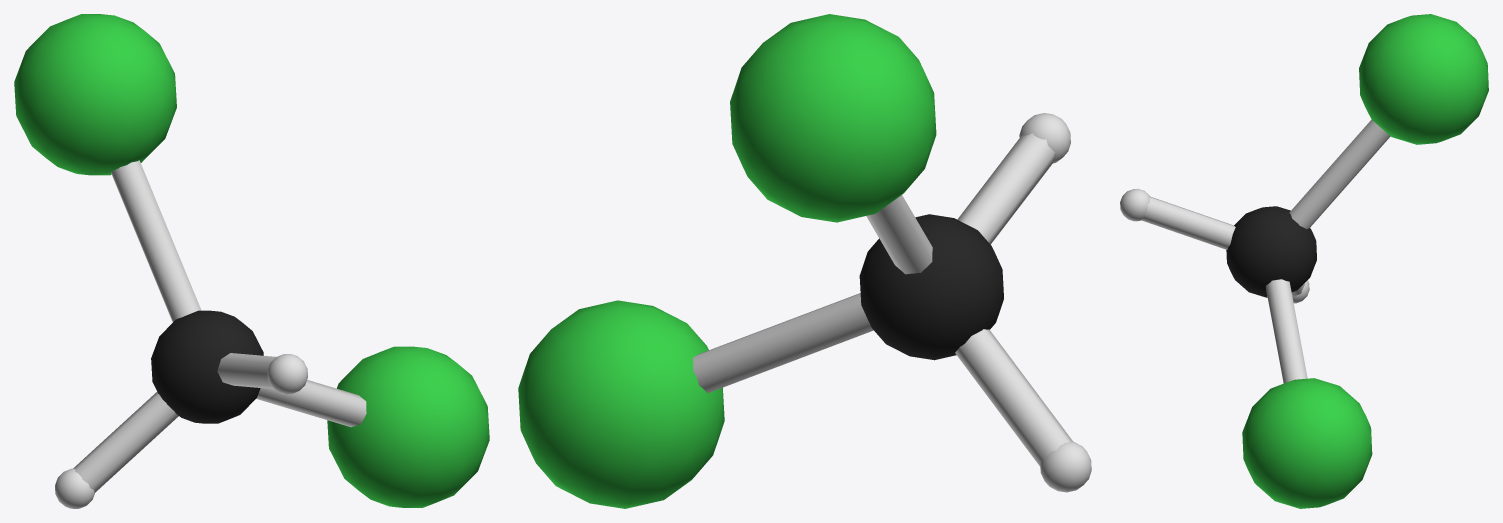
File: Dichlorometane.fbx
3 views of the same model, side by side, from view 1: azimuth 30°, elevation 25°; view 2: azimuth 150°, elevation 25°; view 3: azimuth 270°, elevation 25° (orthographic). The views are drawn at different scales.
Visible parts, largest first — view 1: Group1, Group3, Group2, Group6, Group9, Group7, Group8, Group4, Group5; view 2: Group1, Group3, Group2, Group7, Group9, Group8, Group6, Group5, Group4; view 3: Group3, Group1, Group2, Group6, Group7, Group8, Group4.
Part boxes in pixels (x1=…): Group1: x1=14, y1=14, x2=176, y2=175; Group3: x1=327, y1=346, x2=489, y2=507; Group2: x1=151, y1=310, x2=263, y2=423; Group6: x1=111, y1=160, x2=201, y2=322; Group9: x1=73, y1=392, x2=178, y2=492; Group7: x1=256, y1=380, x2=366, y2=427; Group8: x1=217, y1=353, x2=275, y2=389; Group4: x1=267, y1=354, x2=307, y2=394; Group5: x1=55, y1=468, x2=94, y2=508; Group1: x1=730, y1=14, x2=936, y2=222; Group3: x1=518, y1=300, x2=724, y2=508; Group2: x1=859, y1=214, x2=1003, y2=360; Group7: x1=693, y1=293, x2=873, y2=393; Group9: x1=955, y1=329, x2=1072, y2=466; Group8: x1=957, y1=133, x2=1054, y2=244; Group6: x1=866, y1=195, x2=932, y2=274; Group5: x1=1040, y1=441, x2=1091, y2=492; Group4: x1=1019, y1=113, x2=1070, y2=163; Group3: x1=1242, y1=378, x2=1372, y2=508; Group1: x1=1359, y1=14, x2=1488, y2=144; Group2: x1=1226, y1=206, x2=1316, y2=297; Group6: x1=1289, y1=119, x2=1390, y2=229; Group7: x1=1265, y1=279, x2=1307, y2=383; Group8: x1=1141, y1=196, x2=1235, y2=249; Group4: x1=1120, y1=188, x2=1150, y2=221.
Bounding box in the file's own units: 236 × 256 × 220.
